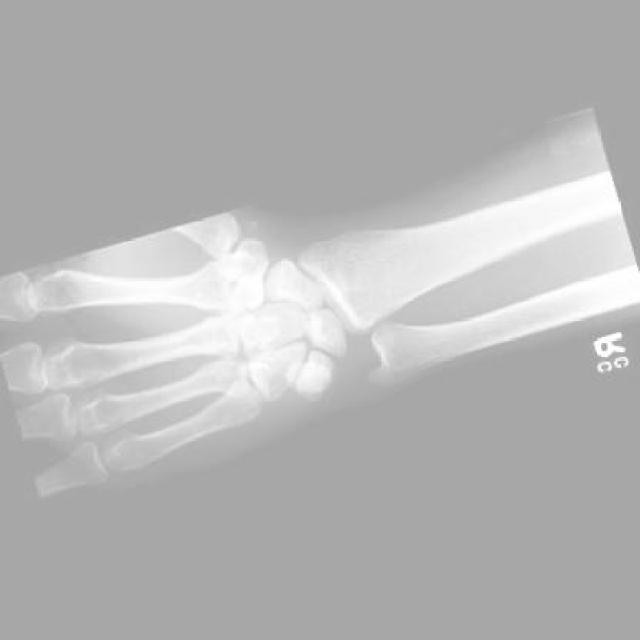Fracture: (280, 265, 309, 302)
